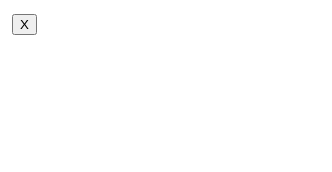
Test: TooltipPopup › shows on hover and labels the trigger
Hover over the button at (24, 24), box [12,14,37,35]
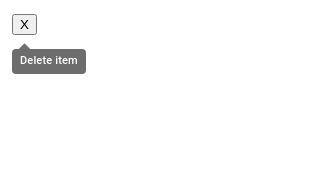
Expected: the tooltip reads "Delete item", [20,54,78,67]
